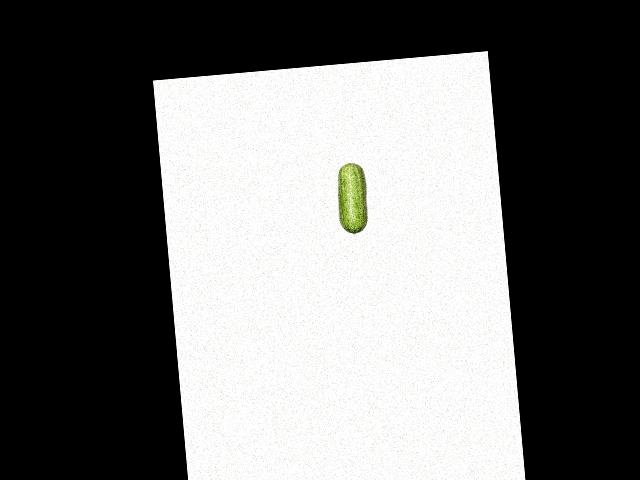cucumber: (335, 162, 370, 235)
